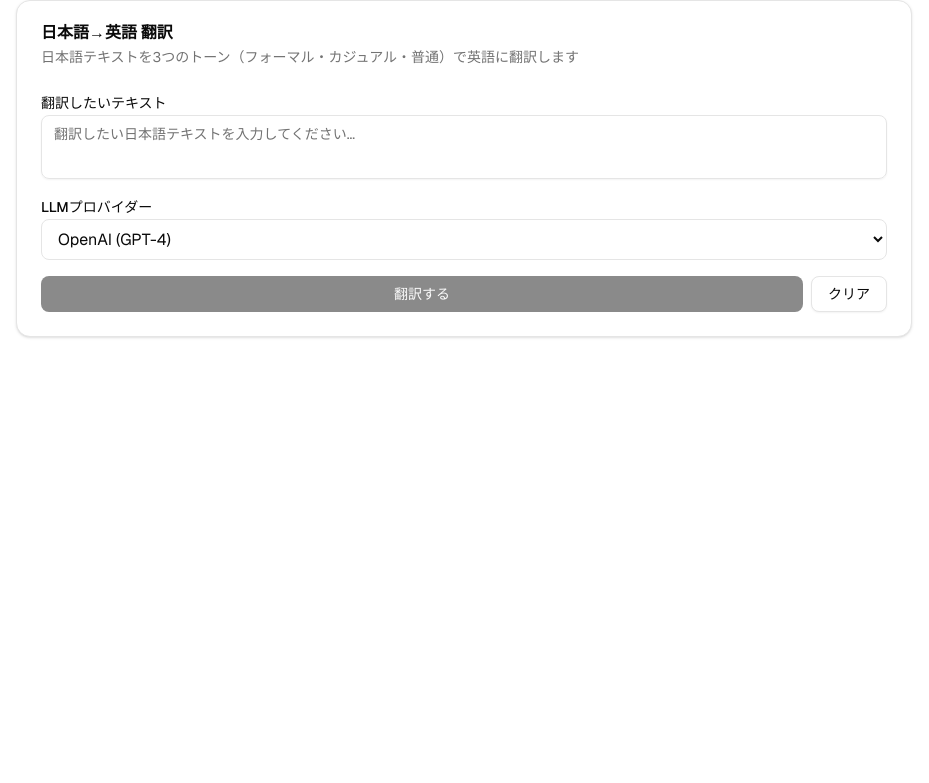
Test: TranslationForm › should display translation results after successful translation
Type "こんにちは" into the text box with placeholder "翻訳したい日本語テキストを入力してください..." at [464, 147], box top-left (41, 115), bottom-right (887, 179)
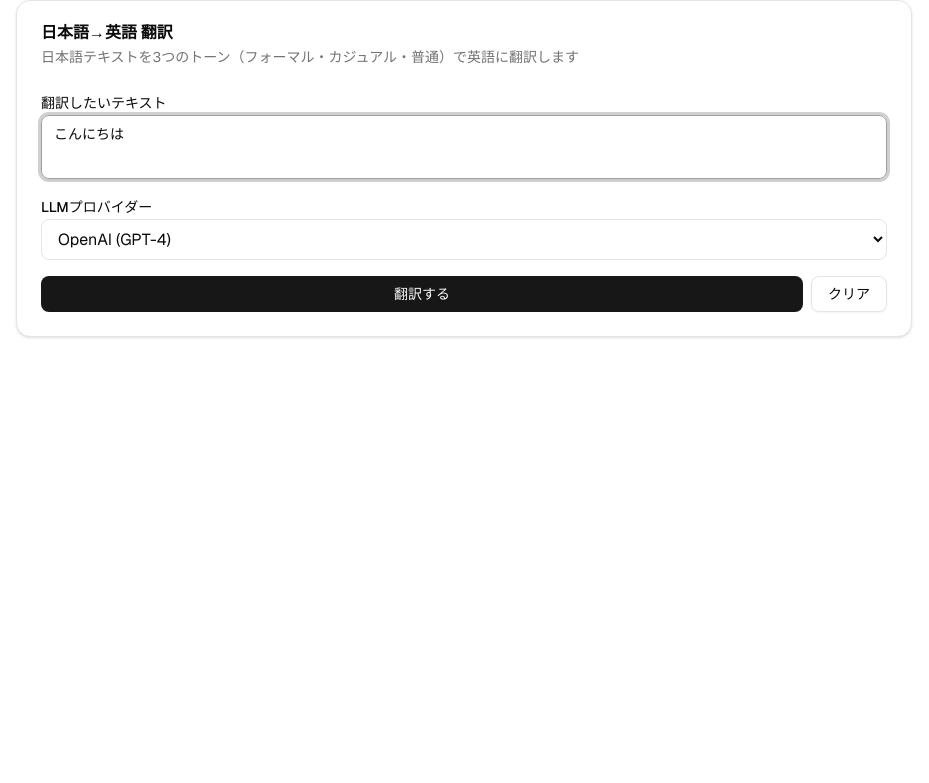
Click the button "翻訳する" at [422, 294], box top-left (41, 276), bottom-right (803, 312)
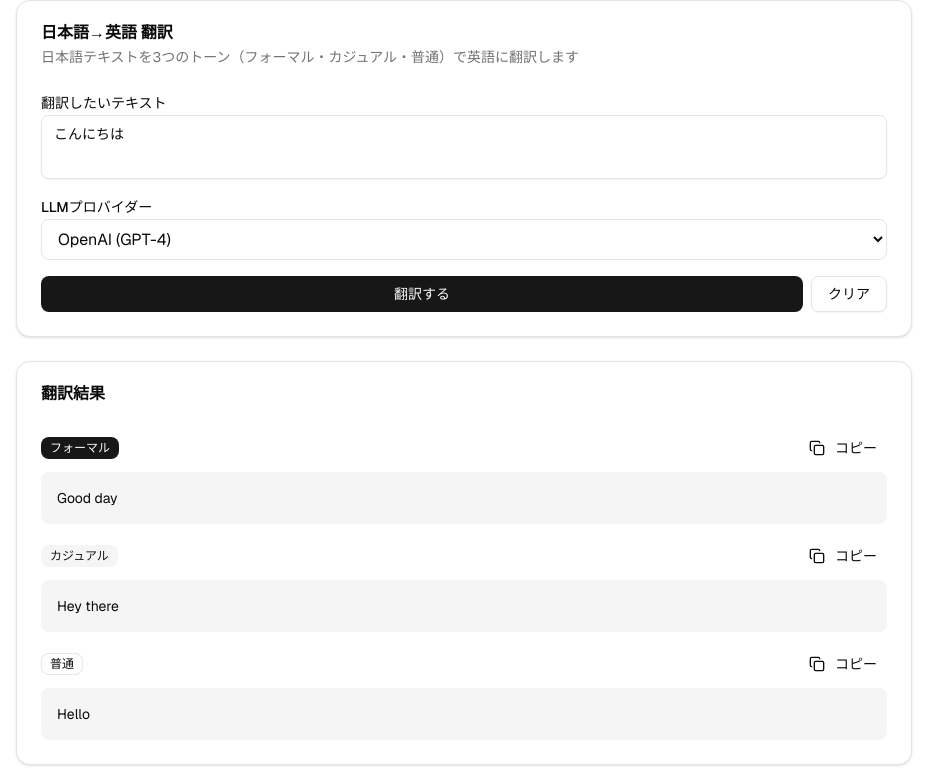
Result: the text "フォーマル" is shown at top-left (41, 437), bottom-right (119, 459)
Result: the text "Good day" is shown at top-left (57, 489), bottom-right (118, 507)
Result: the text "カジュアル" is shown at top-left (41, 545), bottom-right (118, 567)
